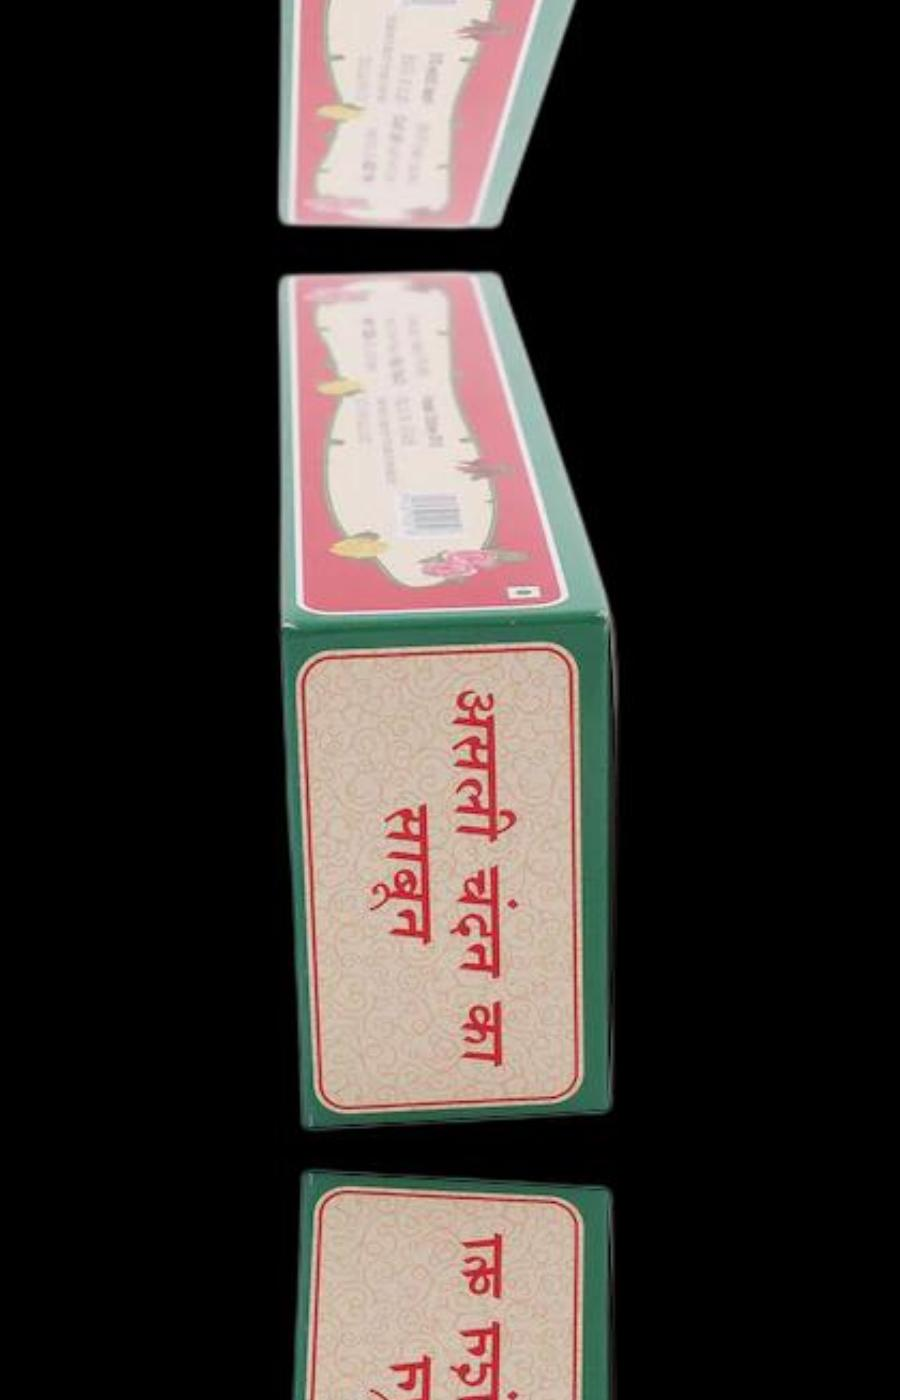Mysore Sandal Soap 150 g -Pack of 3-: (264, 266, 619, 1126), (264, 0, 619, 233), (264, 1174, 619, 1400)
